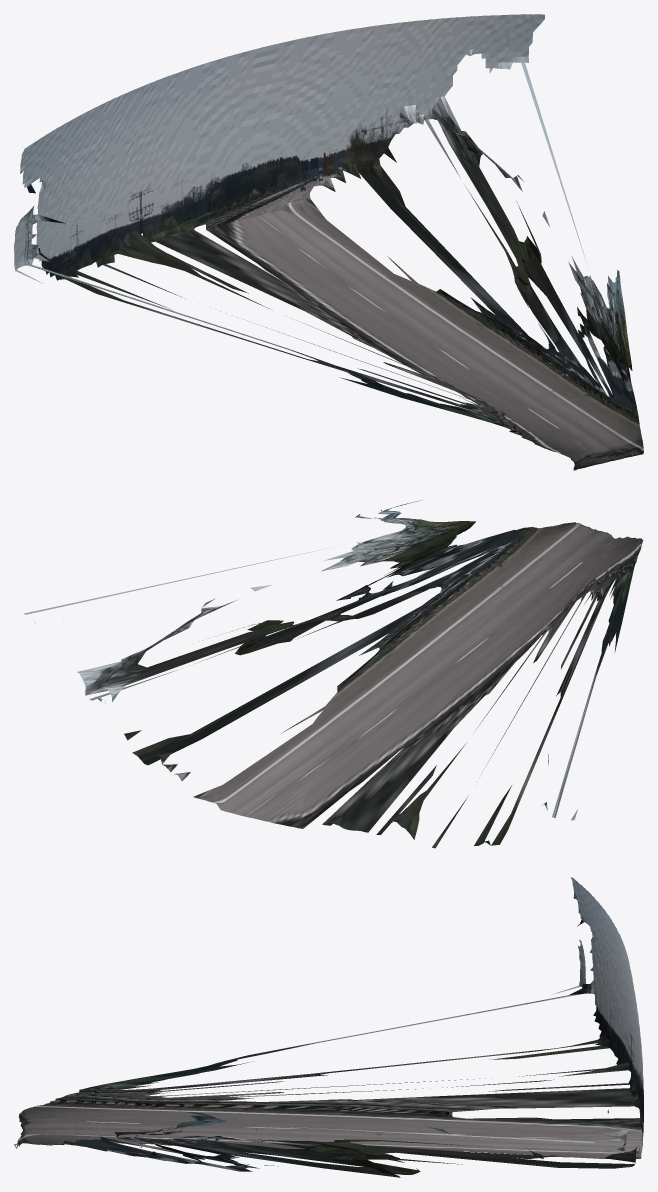
The picture shows the model from 3 angles, top to bottom: view 1: azimuth 30°, elevation 25°; view 2: azimuth 150°, elevation 25°; view 3: azimuth 270°, elevation 25°; orthographic projection. The views are drawn at different scales.
Visible parts, largest first — view 1: defaultobject; view 2: defaultobject; view 3: defaultobject.
Boxes of the visible parts, x1,y1,x2,y2 form: defaultobject: [14, 14, 643, 470]; defaultobject: [23, 500, 643, 848]; defaultobject: [14, 877, 643, 1177].
Size of the model in its own units: 38.89 by 12.31 by 44.54.
1 material, 1 textured.
